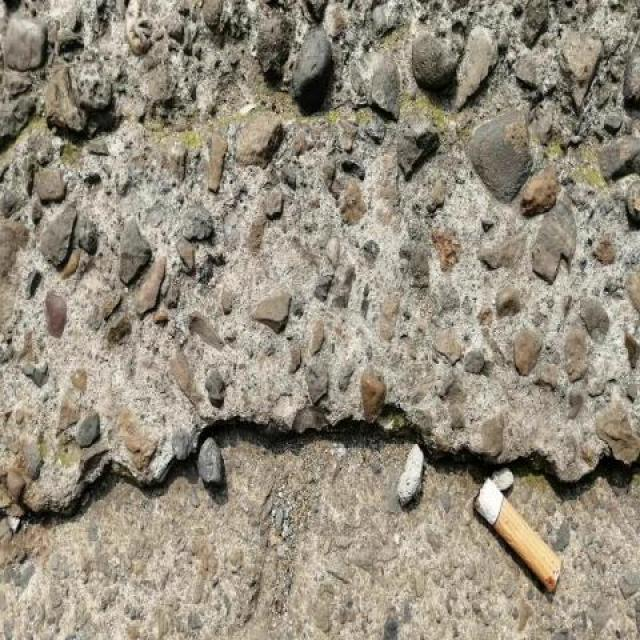non-organic waste: (469, 474, 563, 594)
